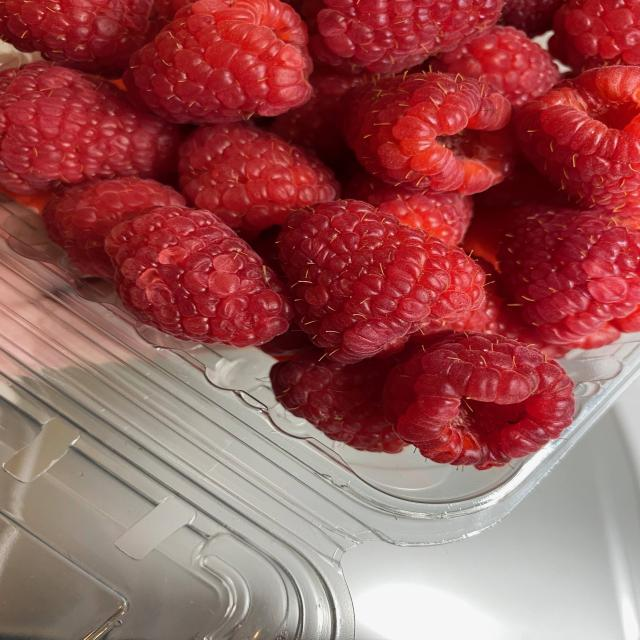raspberries: (6, 6, 634, 450)
